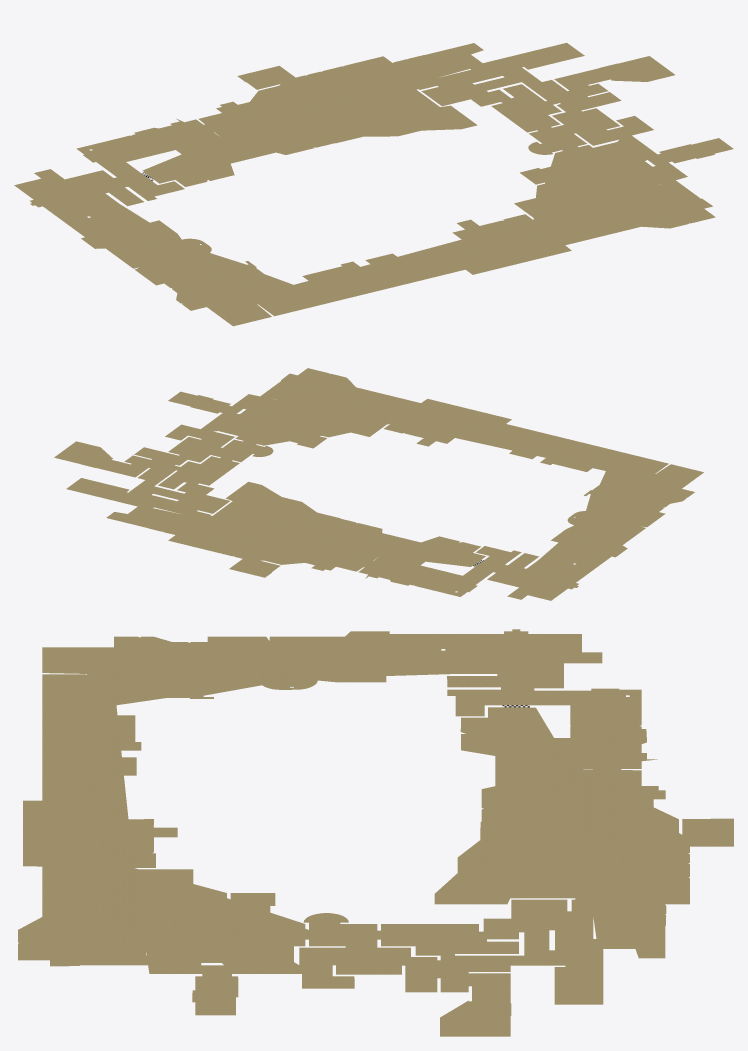
Rendered from minimap.fbx.
3 renders of one model, top to bottom at view 1: azimuth 30°, elevation 25°; view 2: azimuth 150°, elevation 25°; view 3: azimuth 270°, elevation 25°, orthographic. The views are drawn at different scales.
Parts seen in each view (by area): view 1: floor.002; view 2: floor.002; view 3: floor.002.
Part boxes in pixels (<box>): floor.002: <box>14,43,733,326</box>; floor.002: <box>54,368,703,600</box>; floor.002: <box>18,629,733,1036</box>.
Bounding box in the file's own units: 91188 × 170 × 68160.
